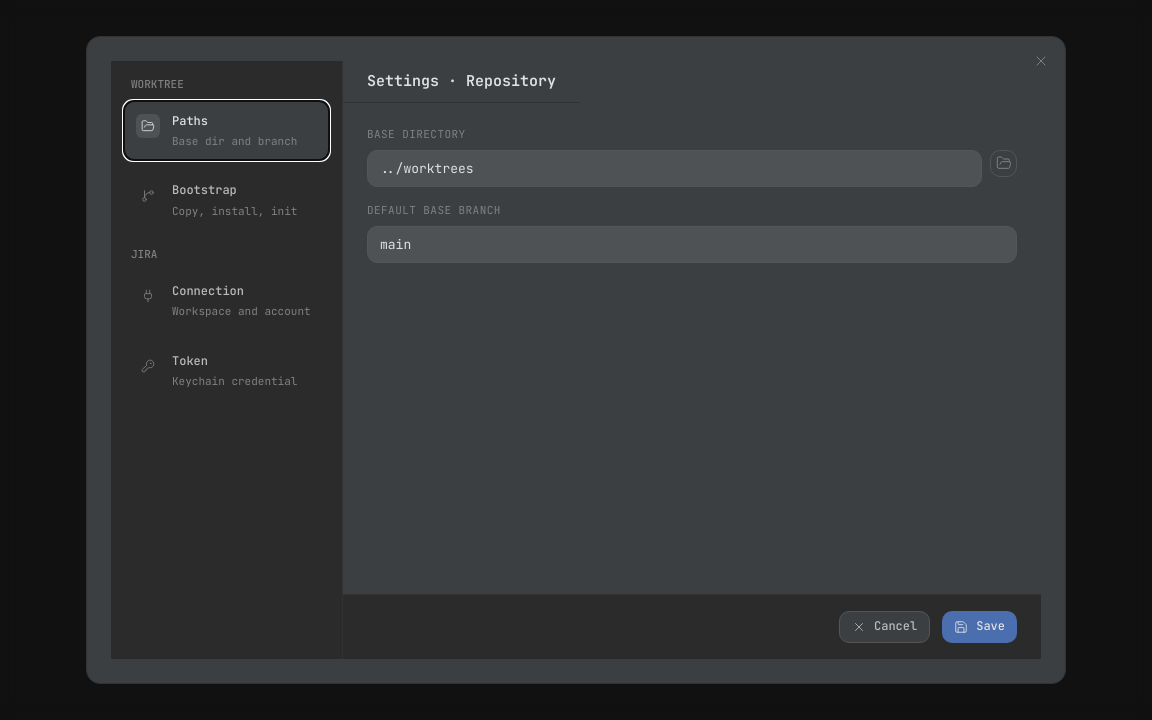
it: Settings repository modal › shows a specific inline error when required Jira #settings-jira-workspace-url is missing
The width and height of the screenshot is (1152, 720).
Click the button "Connection Workspace and account" at (226, 301), box [123,270,330,332]
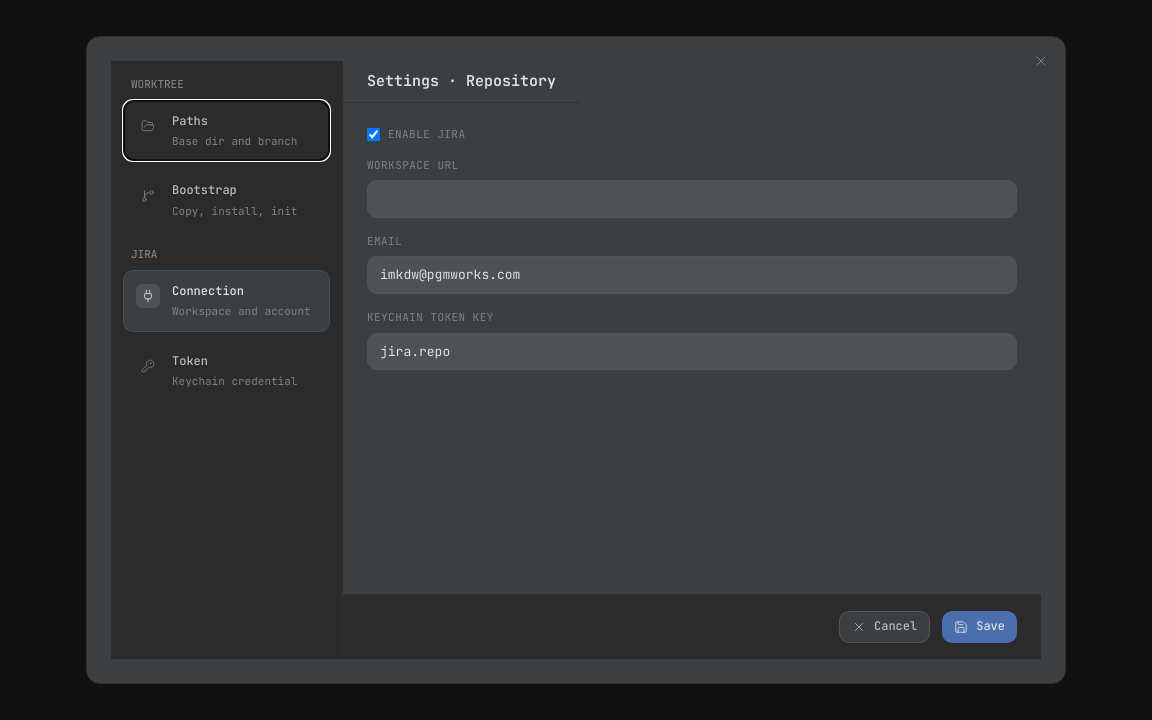
Click the button "Save" at (980, 627), box [942,611,1017,643]
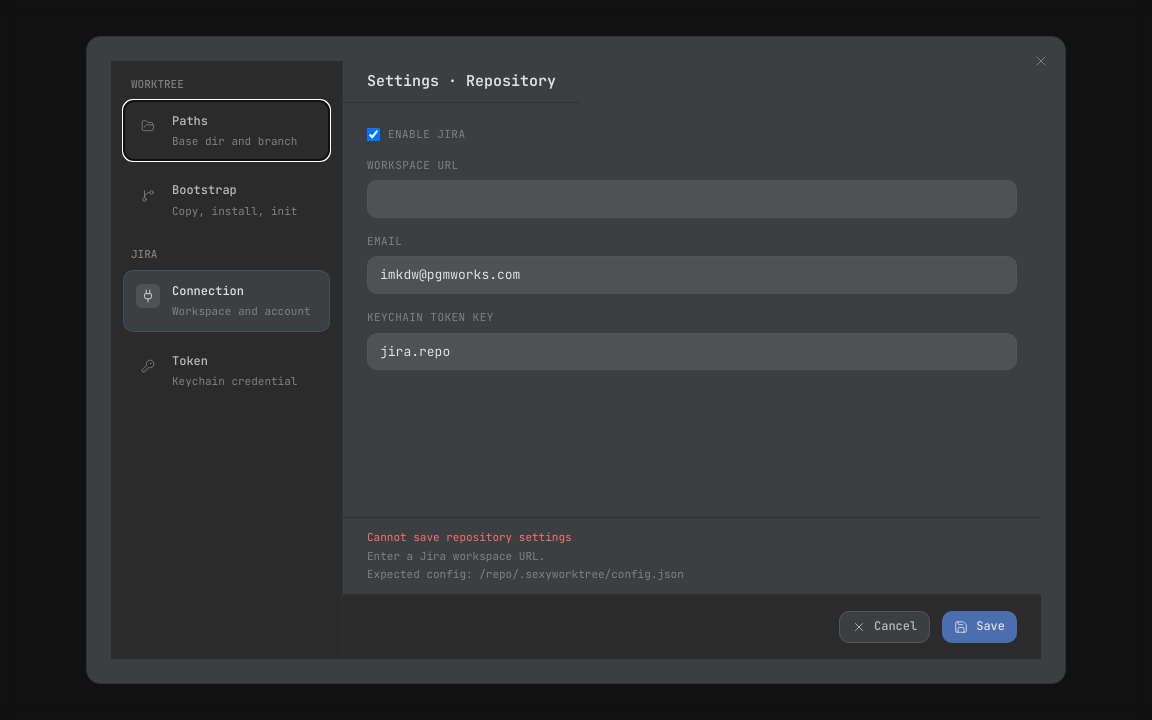
Now the message is shown, box [343,517,1041,594]
Now the message shows "Cannot save repository settings", box [367,530,572,544]
Now the message shows "Enter a Jira workspace URL.", box [367,549,545,563]
